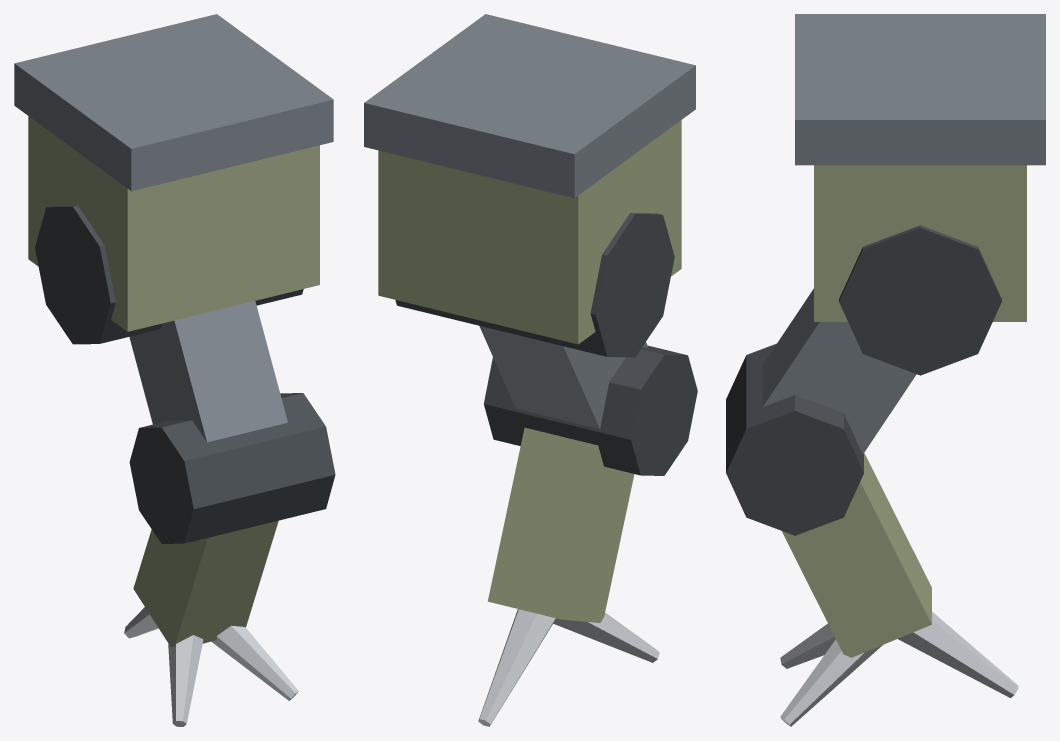
The model's file is mech-hangar-and-battle-frames-hopper-arm-a941d988__26845.glb.
3 views of the same model, side by side, from view 1: azimuth 30°, elevation 25°; view 2: azimuth 150°, elevation 25°; view 3: azimuth 270°, elevation 25° (orthographic). The views are drawn at different scales.
Parts seen in each view (by area): view 1: hopper-arm, elbow (×3); view 2: hopper-arm, elbow (×3); view 3: hopper-arm, elbow (×3).
Boxes of the visible parts, <box> form: hopper-arm: <box>14,14,333,442</box>; elbow (×3): <box>124,393,335,726</box>; hopper-arm: <box>364,14,695,428</box>; elbow (×3): <box>478,345,697,726</box>; hopper-arm: <box>762,14,1045,454</box>; elbow (×3): <box>726,343,1018,726</box>.
Bounding box in the file's own units: 0.4 × 1.11 × 0.51.
